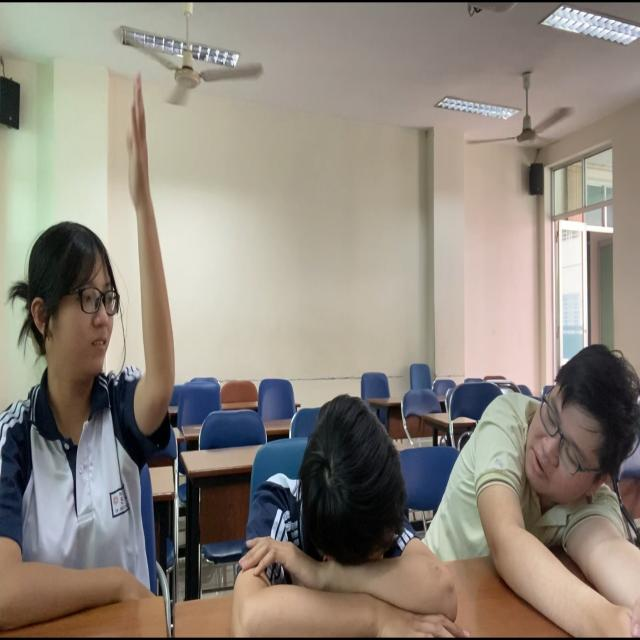raise_hand: (1, 58, 208, 640)
sleep: (409, 285, 640, 637), (216, 365, 482, 640)
